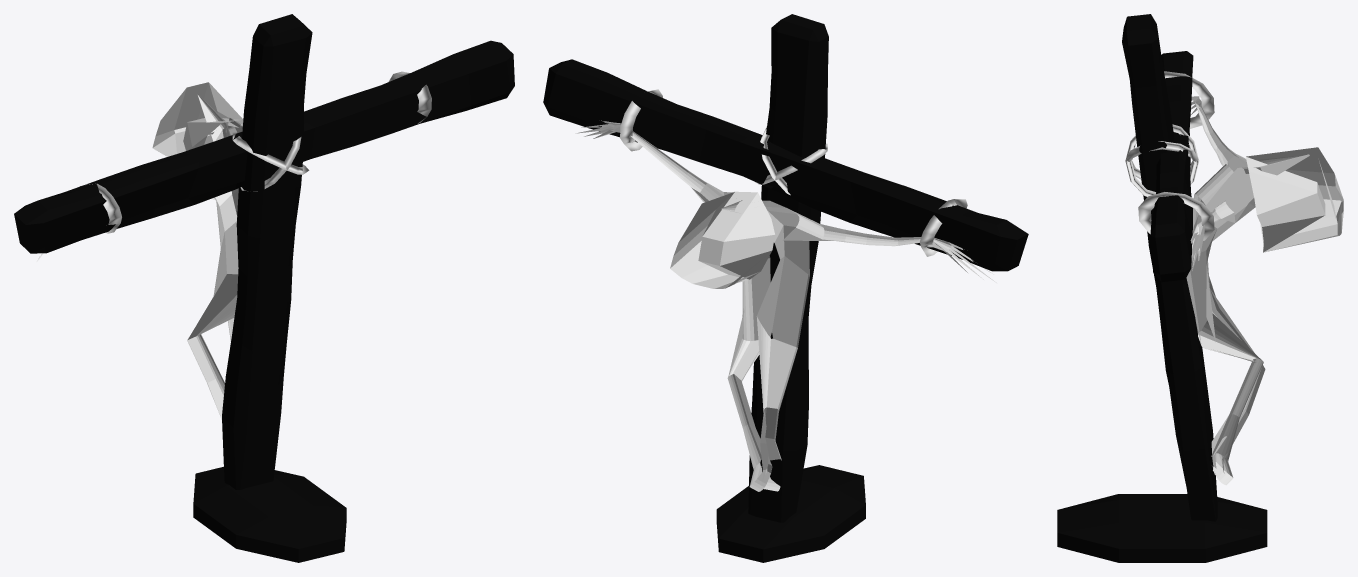
File: body.glb
The picture shows the model from 3 angles, left to right: view 1: azimuth 30°, elevation 25°; view 2: azimuth 150°, elevation 25°; view 3: azimuth 270°, elevation 25°; orthographic projection. The views are drawn at different scales.
Parts seen in each view (by area): view 1: cross, jesus, ropes; view 2: cross, jesus, ropes; view 3: cross, jesus, ropes.
Part boxes in pixels (x1,y1,x2,y2): cross: (14,14,514,562); jesus: (36,82,243,419); ropes: (80,71,431,233); cross: (543,14,1028,562); jesus: (575,120,996,491); ropes: (620,89,967,256); cross: (1057,14,1267,562); jesus: (1186,96,1343,485); ropes: (1125,71,1214,242).
Size of the model in its own units: 4.8 by 4.85 by 2.4.
1 material, 1 textured.
